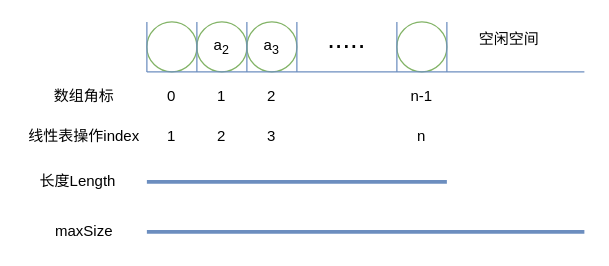
Some shapes in this 609 by 266 pixel diagram are drawn without their labels. Each missing label, with the centre of its shape:
"a 1" goes at (171,46).
"a n" goes at (421,46).
